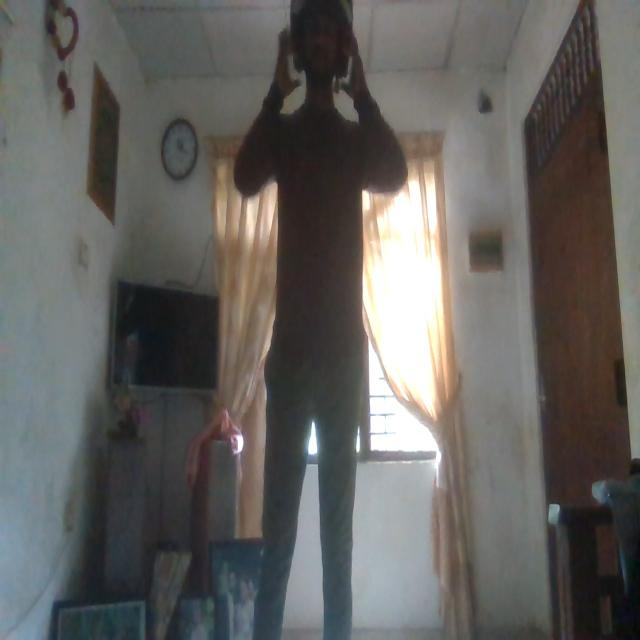Helmet_Wearer: (275, 0, 359, 92)
Person: (235, 4, 389, 640)
